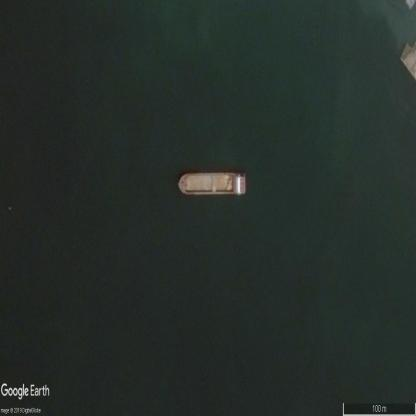ship: (178, 172, 246, 196)
